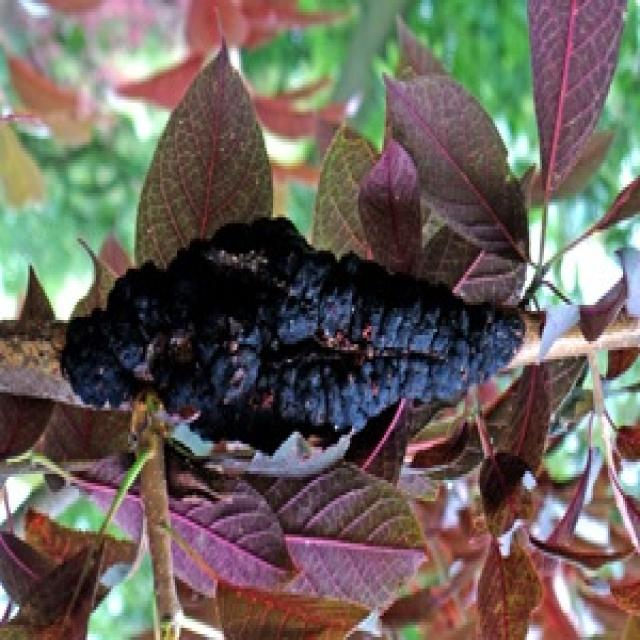Black_knot: (58, 211, 527, 447)
